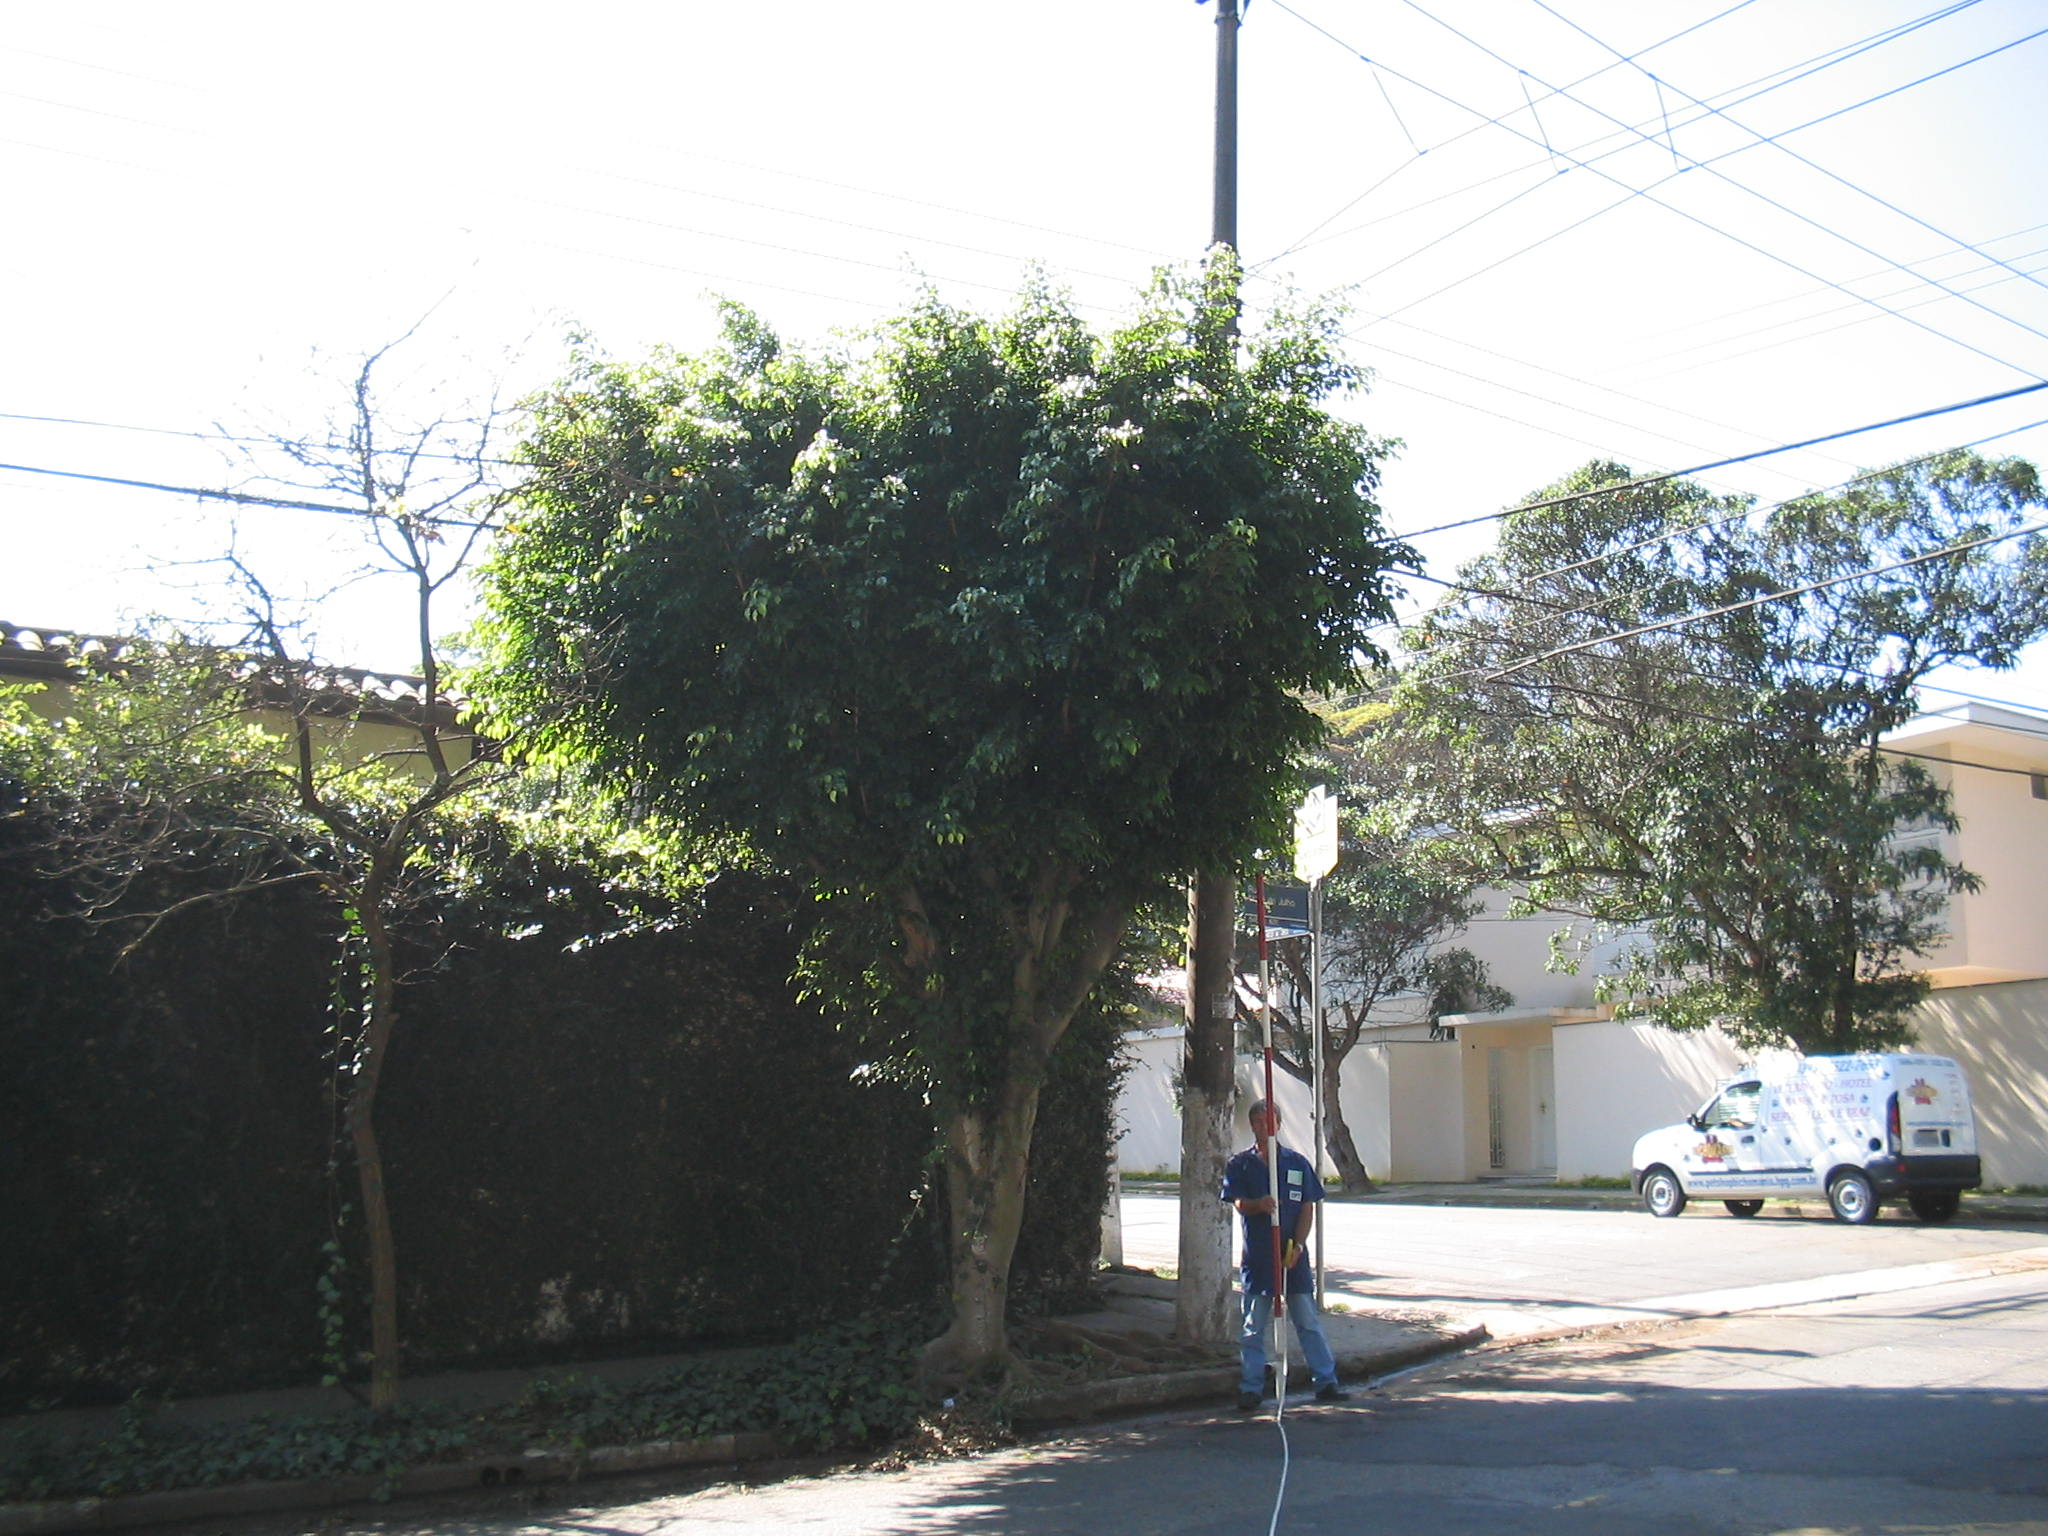crown: (469, 257, 1419, 957), (1419, 458, 2042, 1042)
stem: (321, 913, 439, 1417), (892, 1113, 1058, 1379), (1305, 1083, 1393, 1191)
stick: (1238, 879, 1298, 1405)
tree: (464, 250, 1427, 1381), (26, 265, 584, 1418), (1411, 452, 2043, 1204), (1234, 800, 1492, 1196)
